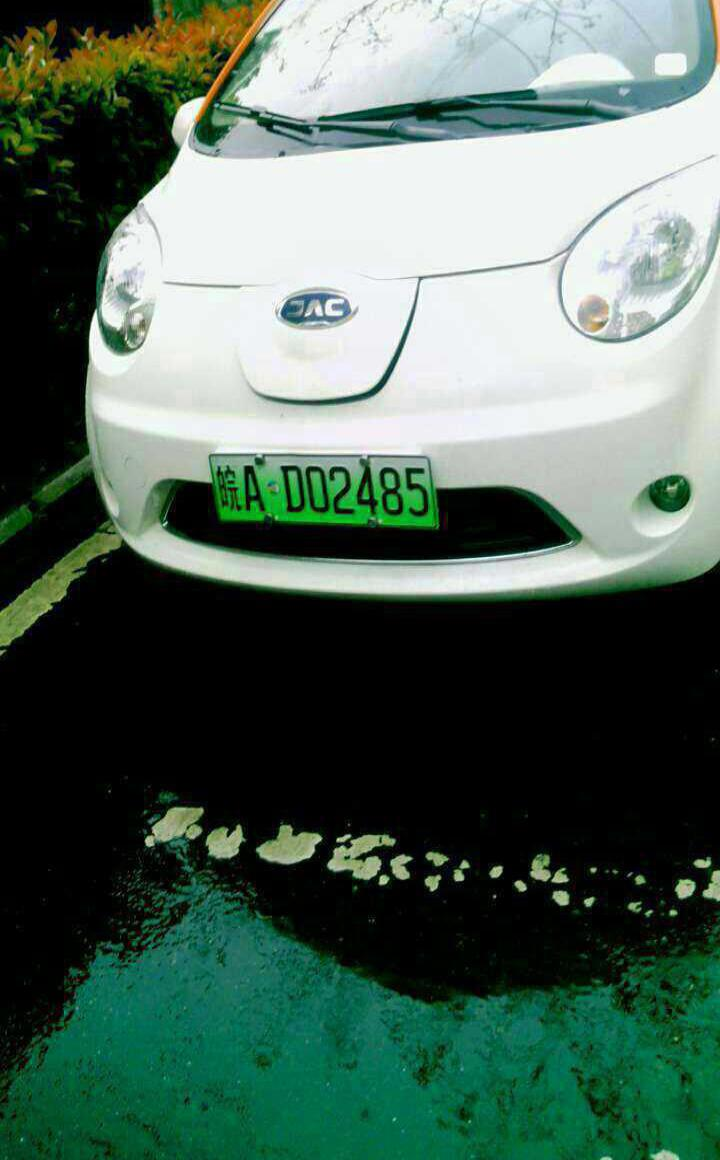car_id: (205, 453, 439, 529)
